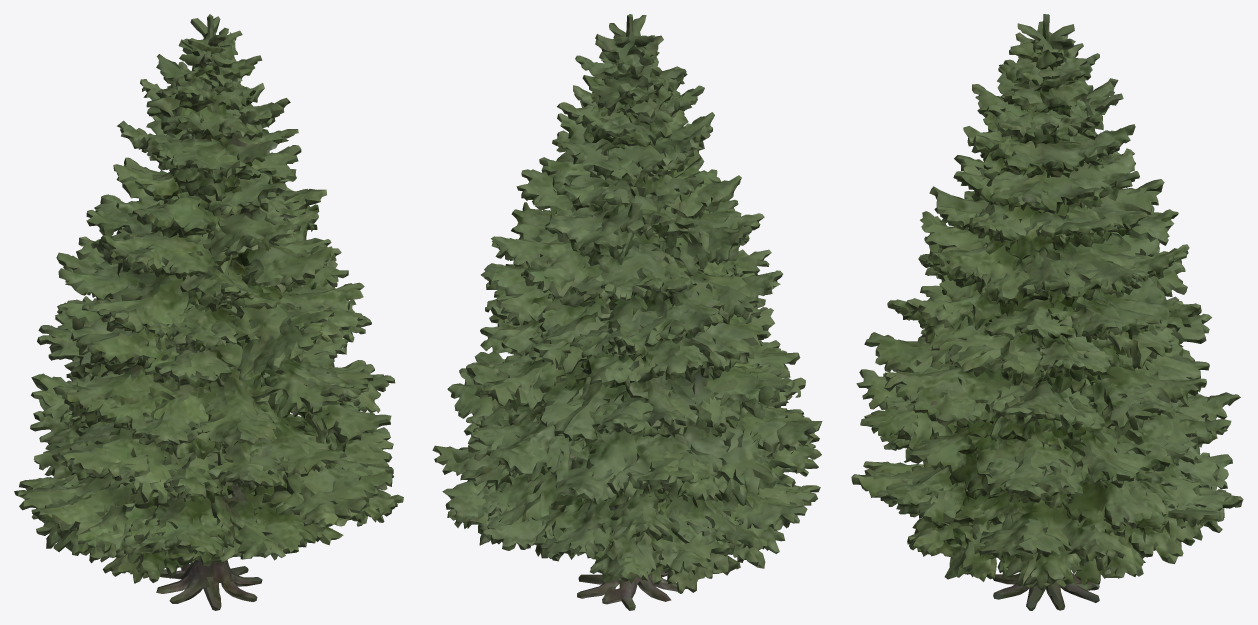
Rendered from r7-abies-fabri.glb.
The picture shows the model from 3 angles, left to right: view 1: azimuth 30°, elevation 25°; view 2: azimuth 150°, elevation 25°; view 3: azimuth 270°, elevation 25°; orthographic projection.
Parts seen in each view (by area): view 1: geometry_0; view 2: geometry_0; view 3: geometry_0.
Boxes of the visible parts, left/top/right/bottom form: geometry_0: left=14, top=14, right=403, bottom=610; geometry_0: left=432, top=14, right=822, bottom=610; geometry_0: left=851, top=14, right=1243, bottom=610.
Bounding box in the file's own units: 15.76 × 25 × 15.4.
Materials: 1 (1 with a texture image).
